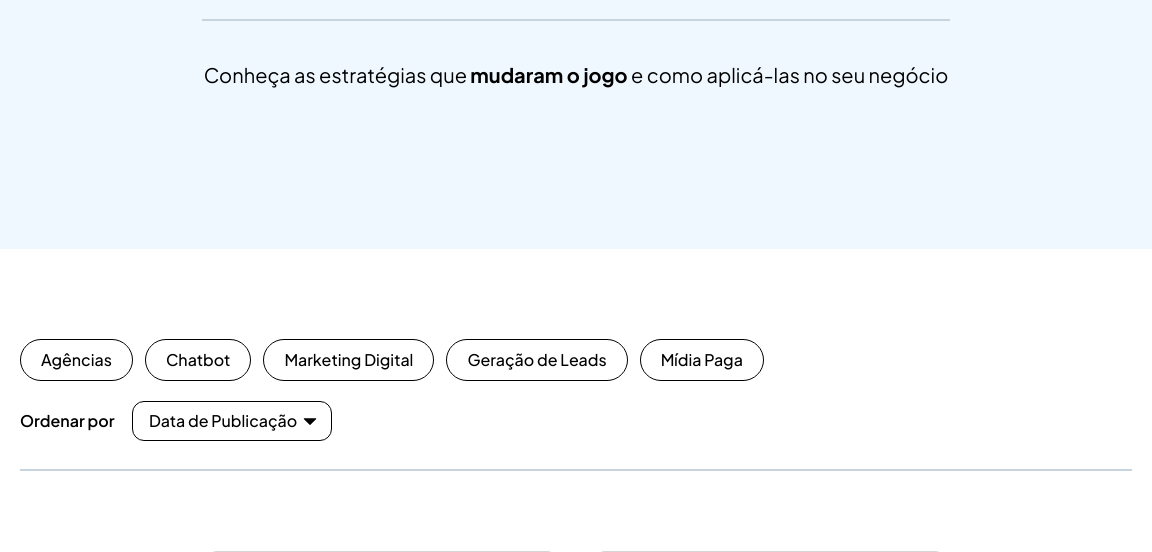
it: Tests the hero section › Checks that after clicking on the 'Geração de Leads' category, there are only 7 cards rendered on the screen
(page scrolled)
Step 1. Click the button with test id "category-button" showing "Geração de Leads" → (537, 360), box [446,339,627,381]
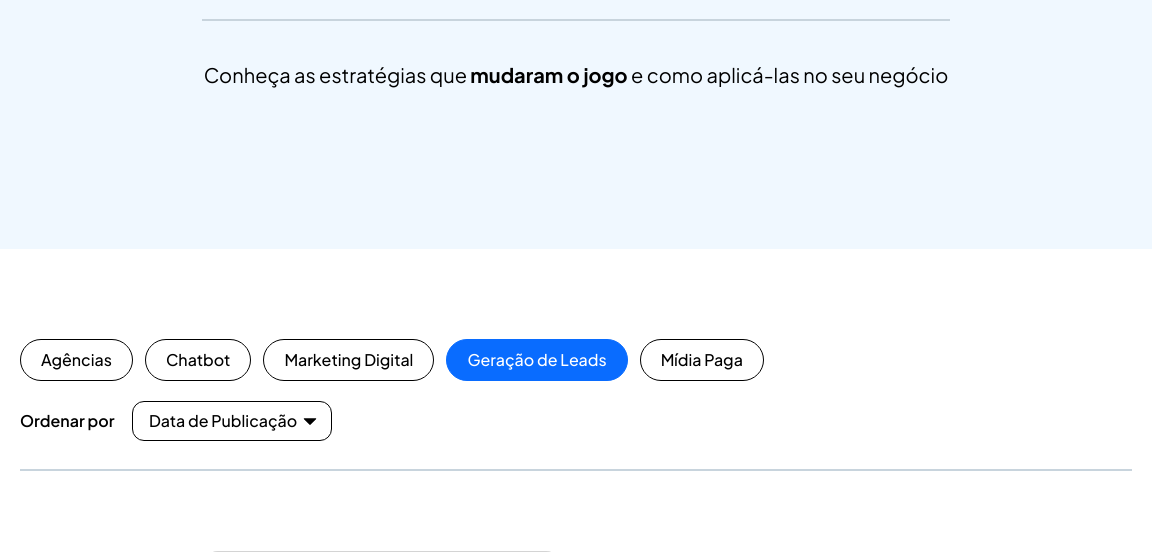
expect the number of elements with test id "card" is 7: met
